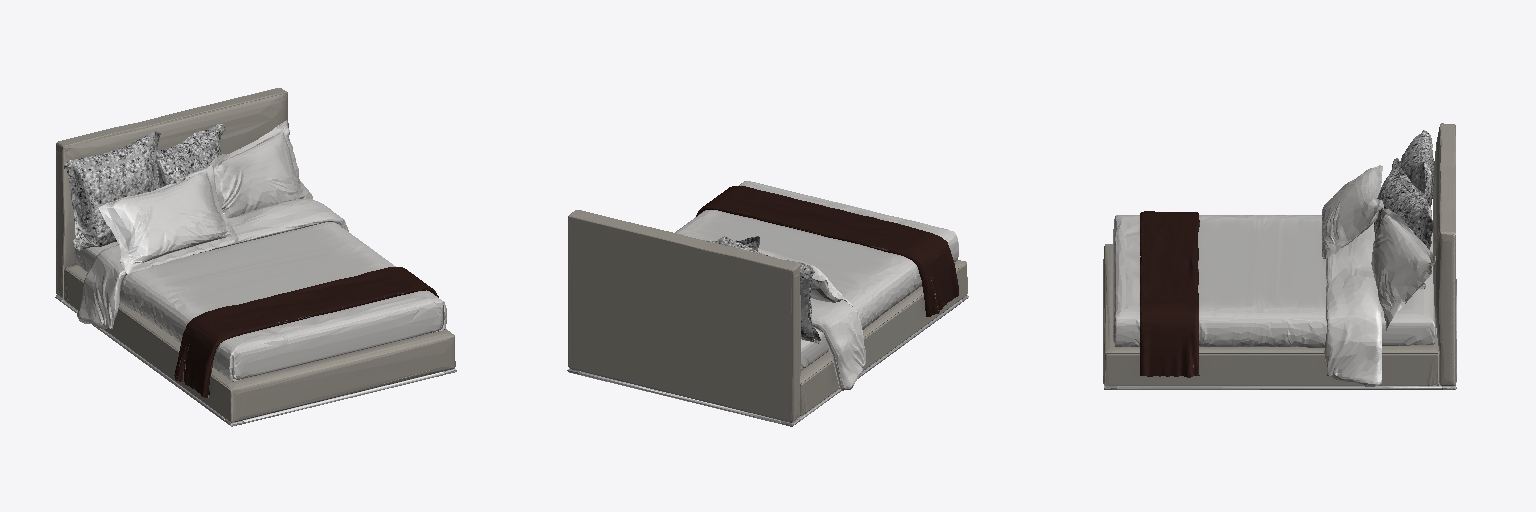
3 renders of one model, left to right at view 1: azimuth 30°, elevation 25°; view 2: azimuth 150°, elevation 25°; view 3: azimuth 270°, elevation 25°, orthographic.
Visible parts, largest first — view 1: solid_005, solid_003, solid_001, solid_002, solid_006; view 2: solid_003, solid_005, solid_001, solid_002, solid_006; view 3: solid_005, solid_003, solid_001, solid_002, solid_006.
Boxes of the visible parts, x1=… form: solid_005: x1=74, y1=120, x2=446, y2=381; solid_003: x1=56, y1=88, x2=455, y2=422; solid_001: x1=174, y1=267, x2=438, y2=397; solid_002: x1=64, y1=124, x2=225, y2=250; solid_006: x1=62, y1=300, x2=443, y2=423; solid_003: x1=568, y1=210, x2=967, y2=422; solid_005: x1=675, y1=181, x2=958, y2=390; solid_001: x1=696, y1=186, x2=958, y2=316; solid_002: x1=704, y1=236, x2=820, y2=343; solid_006: x1=579, y1=300, x2=961, y2=423; solid_005: x1=1113, y1=165, x2=1435, y2=386; solid_003: x1=1103, y1=123, x2=1455, y2=385; solid_001: x1=1140, y1=211, x2=1199, y2=377; solid_002: x1=1374, y1=130, x2=1433, y2=288; solid_006: x1=1103, y1=285, x2=1456, y2=389.
Bounding box in the file's own units: 1.71 × 0.9948 × 2.
Materials: 1 (1 with a texture image).